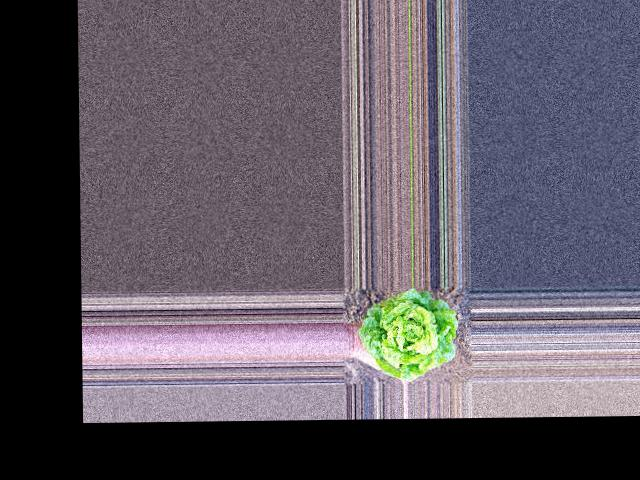lettuce: (365, 290, 460, 379)
